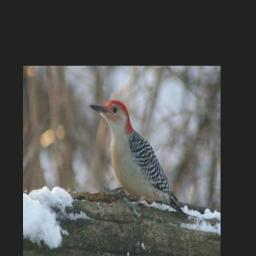Woodpecker: (88, 100, 187, 217)
